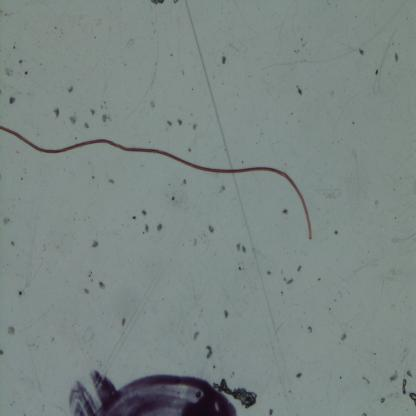Air bubble: (408, 392, 416, 406)
Background material: (209, 370, 259, 411), (83, 326, 95, 344), (255, 127, 265, 147), (204, 342, 213, 361), (401, 348, 411, 363), (0, 6, 10, 20), (192, 329, 202, 341), (236, 241, 246, 253), (295, 84, 305, 96), (281, 206, 291, 218), (389, 370, 398, 383), (283, 276, 294, 286), (4, 66, 15, 76), (102, 113, 113, 123), (361, 374, 370, 386), (300, 36, 308, 49), (7, 325, 15, 338), (90, 239, 100, 249), (340, 330, 348, 342), (224, 307, 232, 319), (98, 278, 106, 290), (150, 0, 166, 6), (53, 106, 60, 119), (70, 113, 77, 126), (2, 215, 11, 225), (8, 96, 17, 105), (217, 184, 226, 193), (393, 51, 399, 64), (208, 223, 215, 234), (67, 84, 74, 95), (156, 223, 163, 234), (144, 223, 150, 235), (108, 178, 117, 186), (121, 316, 126, 330), (408, 369, 414, 380), (130, 214, 138, 222), (266, 408, 274, 416), (180, 178, 188, 186), (83, 286, 91, 294), (165, 120, 174, 127), (149, 100, 156, 109), (0, 347, 6, 357), (221, 54, 226, 66), (18, 290, 25, 298), (359, 46, 365, 55), (170, 193, 176, 202), (90, 108, 96, 117), (297, 264, 303, 272), (84, 121, 90, 129), (296, 371, 302, 379), (18, 58, 24, 66), (177, 118, 182, 127), (92, 173, 96, 182), (192, 124, 198, 130), (23, 70, 29, 76), (334, 229, 339, 236), (182, 68, 186, 76), (308, 326, 312, 334), (374, 68, 378, 76), (266, 271, 272, 276), (187, 148, 193, 153), (174, 0, 180, 5), (142, 211, 146, 217)
Glass filter fibre: (372, 27, 398, 97), (23, 206, 42, 289), (350, 146, 364, 203), (390, 232, 416, 246), (123, 38, 135, 50), (401, 379, 408, 394)
Microfibre: (0, 123, 314, 241)
Pen: (71, 368, 238, 416)
